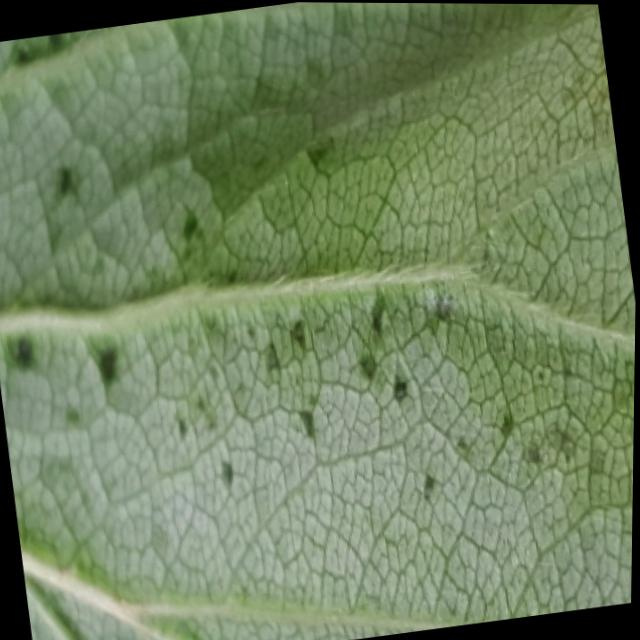Angular Leafspot: (0, 2, 637, 520)
